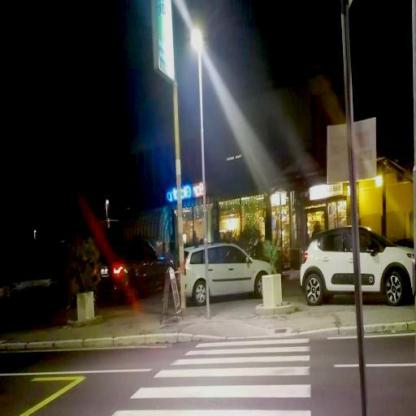crosswalk: (128, 364, 316, 404), (184, 334, 316, 356)
